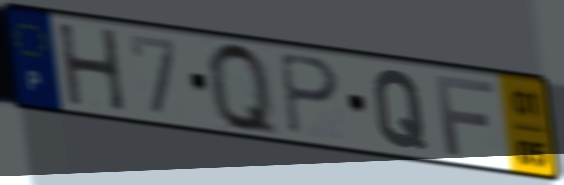7: (126, 32, 180, 119)
F: (431, 73, 498, 160)
H: (54, 21, 130, 114)
P: (276, 50, 344, 138)
Q: (203, 38, 283, 142), (370, 66, 430, 152)
